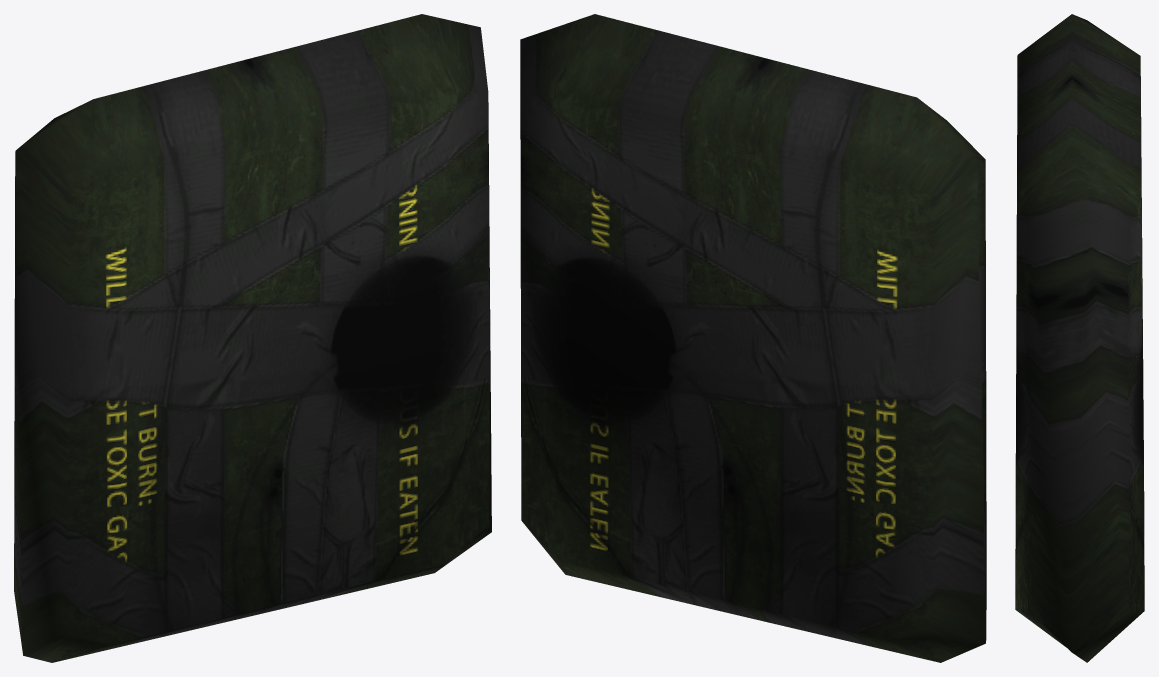
The model's file is t6_wpn_c4_world_LOD2.obj.
3 views of the same model, side by side, from view 1: azimuth 30°, elevation 25°; view 2: azimuth 150°, elevation 25°; view 3: azimuth 270°, elevation 25° (orthographic). The views are drawn at different scales.
Parts seen in each view (by area): view 1: mtl_t6_wpn_c4; view 2: mtl_t6_wpn_c4; view 3: mtl_t6_wpn_c4.
Boxes of the visible parts, box(x1,y1,x2,y2) form: mtl_t6_wpn_c4: box(14, 14, 491, 662); mtl_t6_wpn_c4: box(520, 14, 986, 662); mtl_t6_wpn_c4: box(1015, 14, 1144, 662).
Bounding box in the file's own units: 27.84 × 32.38 × 7.55.
